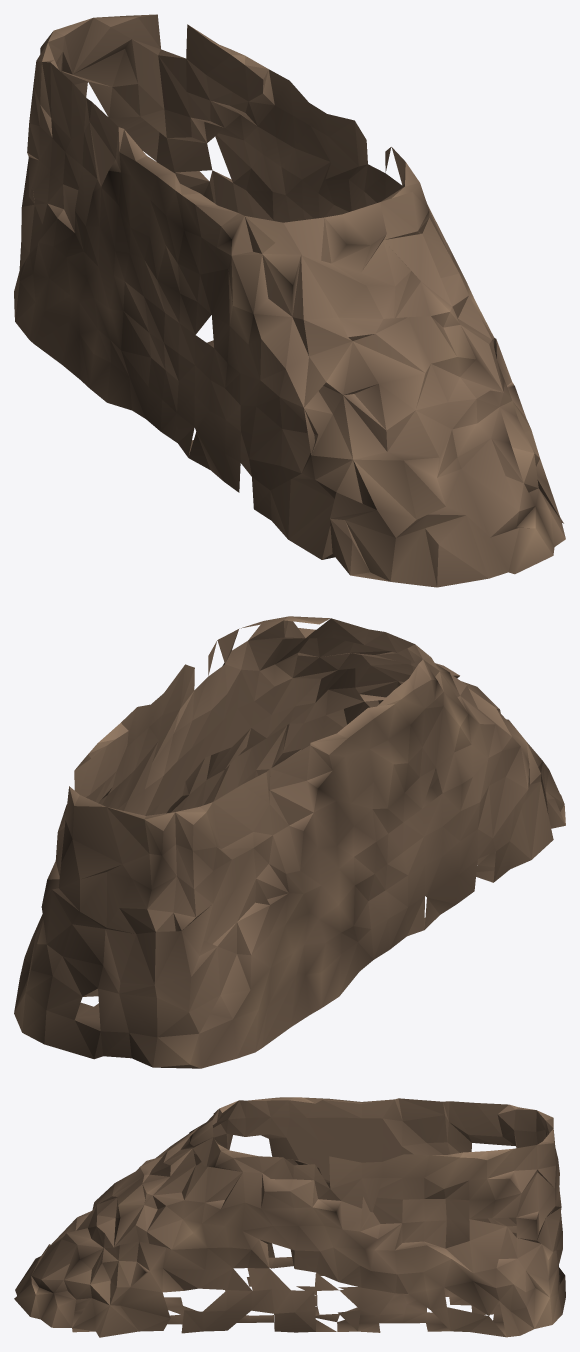
The model's file is gilt-shoes.gltf.
The picture shows the model from 3 angles, top to bottom: view 1: azimuth 30°, elevation 25°; view 2: azimuth 150°, elevation 25°; view 3: azimuth 270°, elevation 25°; orthographic projection. The views are drawn at different scales.
Parts seen in each view (by area): view 1: gilt-shoes; view 2: gilt-shoes; view 3: gilt-shoes.
Part boxes in pixels (<box>): gilt-shoes: <box>14,14,565,587</box>; gilt-shoes: <box>14,616,565,1068</box>; gilt-shoes: <box>14,1097,565,1337</box>.
Bounding box in the file's own units: 0.0336 × 0.0347 × 0.1.
